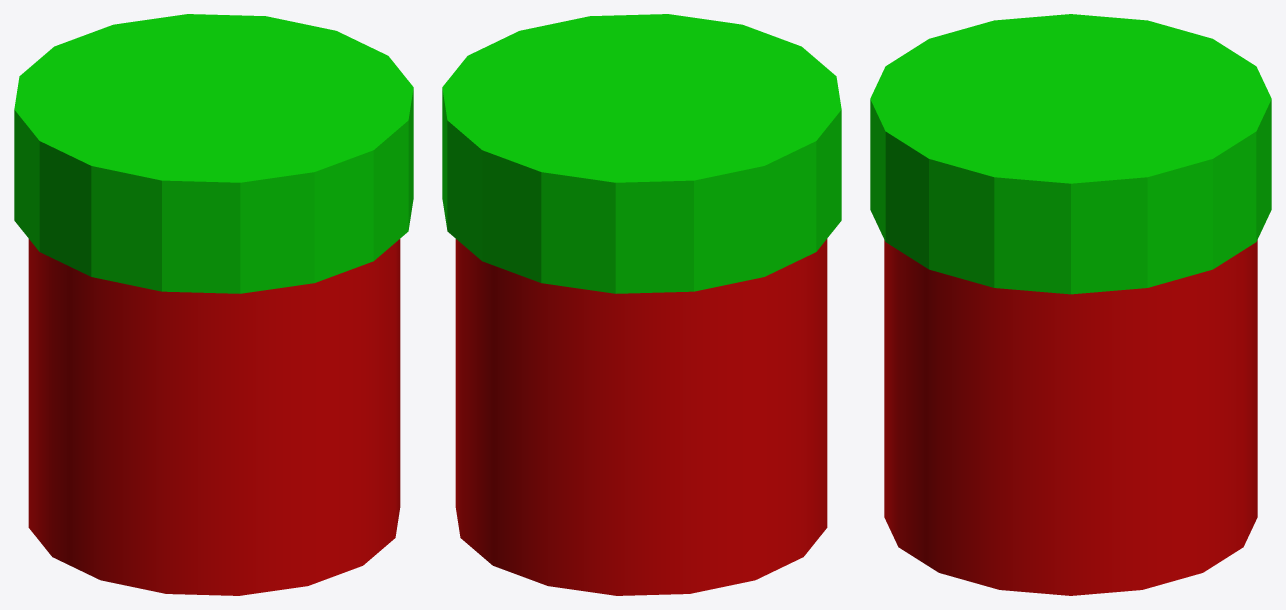
File: droga.fbx
3 renders of one model, left to right at view 1: azimuth 30°, elevation 25°; view 2: azimuth 150°, elevation 25°; view 3: azimuth 270°, elevation 25°, orthographic.
Visible parts, largest first — view 1: DROGA; view 2: DROGA; view 3: DROGA.
Part boxes in pixels (x1,y1,x2,y2): DROGA: [14, 14, 413, 595]; DROGA: [442, 14, 841, 595]; DROGA: [870, 14, 1271, 595].
Size of the model in its own units: 0.2297 by 0.2638 by 0.2297.
